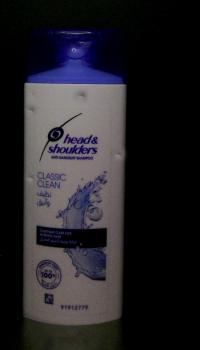dent_unacceptable: (68, 84, 96, 105), (25, 96, 41, 120), (108, 143, 125, 164), (25, 168, 40, 190)
